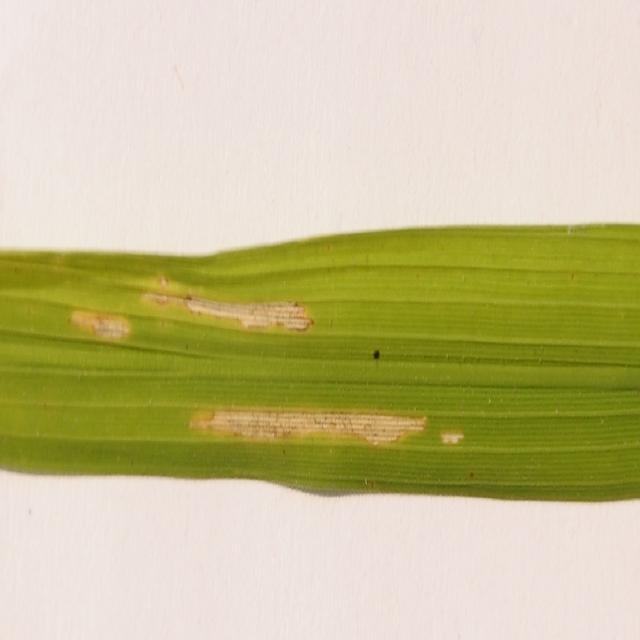Unhealthy: (191, 407, 425, 446), (144, 290, 313, 334), (69, 310, 132, 343), (441, 432, 464, 444), (373, 347, 380, 361), (160, 275, 167, 287)
